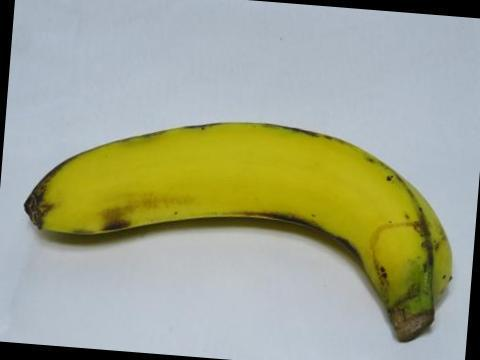freshripe: (16, 106, 466, 351)
